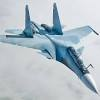maybay_muctieu: (1, 5, 100, 94)
